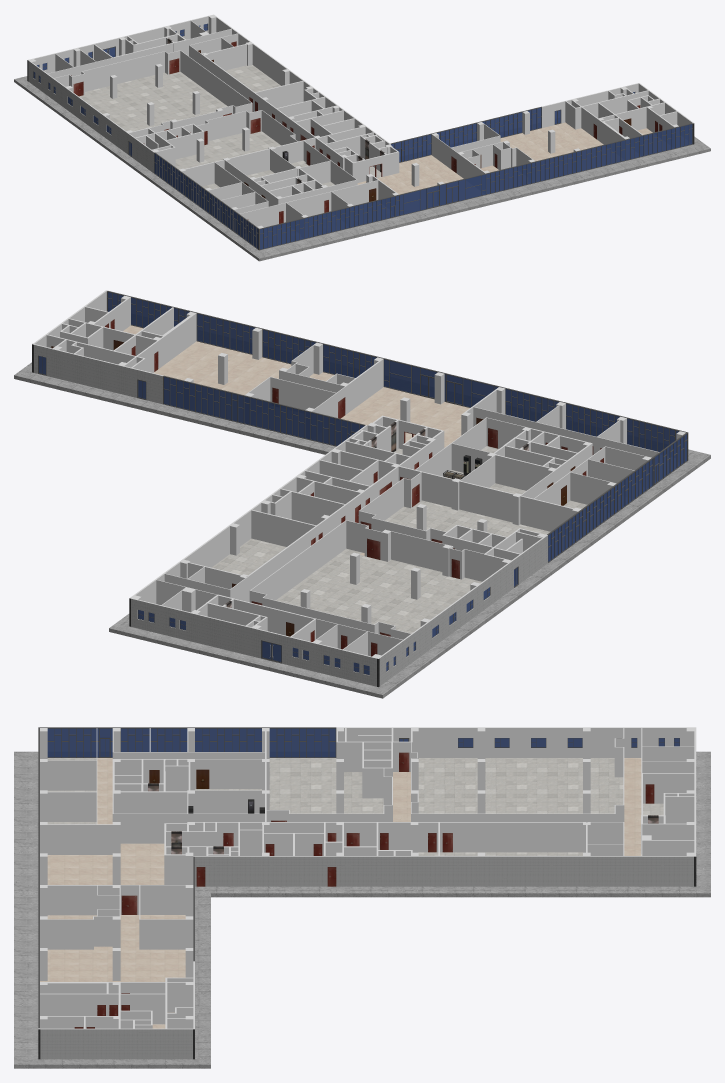
Rendered from NanJingNanBuilding_1F.gltf.
The picture shows the model from 3 angles, top to bottom: view 1: azimuth 30°, elevation 25°; view 2: azimuth 150°, elevation 25°; view 3: azimuth 270°, elevation 25°; orthographic projection. The views are drawn at different scales.
Parts seen in each view (by area): view 1: 1FWall (2), 1F_Glass, 1F_Floor001, 1FRoom, 1F_GlassDoor, 1F_Wall, 1FZhuZi, 1FCorridor, 1FWall (1), 1F_Outside_wall, 1FDoubleDoor01, 1FSingleDoor; view 2: 1FWall (2), 1F_Glass, 1F_Outside_wall, 1FRoom, 1F_Floor001, 1F_GlassDoor, 1FZhuZi, 1FCorridor, 1FWall (1), 1F_Wall, 1FDoubleDoor01, 1FSingleDoor; view 3: 1FWall (2), 1F_Floor001, 1F_Outside_wall, 1FRoom, 1FCorridor, 1FZhuZi, 1F_Wall, 1F_Glass, 1FWall (1), 1F_GlassDoor, 1FSingleDoor, 1FDoubleDoor01 (+1 smaller).
Part boxes in pixels (box(x1,y1,x2,y2)): 1FWall (2): box(48, 20, 677, 227); 1F_Glass: box(33, 23, 692, 249); 1F_Floor001: box(14, 76, 710, 261); 1FRoom: box(79, 65, 381, 189); 1F_GlassDoor: box(128, 92, 692, 250); 1F_Wall: box(28, 14, 693, 152); 1FZhuZi: box(29, 15, 678, 228); 1FCorridor: box(357, 122, 652, 194); 1FWall (1): box(67, 32, 662, 219); 1F_Outside_wall: box(28, 61, 153, 173); 1FDoubleDoor01: box(73, 58, 456, 177); 1FSingleDoor: box(71, 41, 662, 223); 1FWall (2): box(46, 299, 659, 656); 1F_Glass: box(39, 292, 686, 674); 1F_Outside_wall: box(34, 345, 547, 686); 1FRoom: box(212, 446, 587, 633); 1F_Floor001: box(14, 362, 710, 698); 1F_GlassDoor: box(38, 291, 688, 587); 1FZhuZi: box(53, 295, 685, 657); 1FCorridor: box(123, 325, 469, 555); 1FWall (1): box(51, 309, 653, 643); 1F_Wall: box(32, 290, 547, 675); 1FDoubleDoor01: box(251, 397, 497, 636); 1FSingleDoor: box(105, 319, 603, 656); 1FWall (2): box(40, 728, 694, 1028); 1F_Floor001: box(14, 751, 710, 1068); 1F_Outside_wall: box(40, 856, 693, 1059); 1FRoom: box(47, 758, 663, 855); 1FCorridor: box(40, 758, 641, 1028); 1FZhuZi: box(40, 728, 694, 1028); 1F_Wall: box(38, 727, 696, 1029); 1F_Glass: box(47, 728, 679, 757); 1FWall (1): box(74, 730, 665, 1028); 1F_GlassDoor: box(38, 727, 409, 1028); 1FSingleDoor: box(74, 784, 654, 1028); 1FDoubleDoor01: box(121, 752, 452, 914).
Size of the model in its own units: 6922 by 348 by 6509.
Materials: 14 (10 with a texture image).
